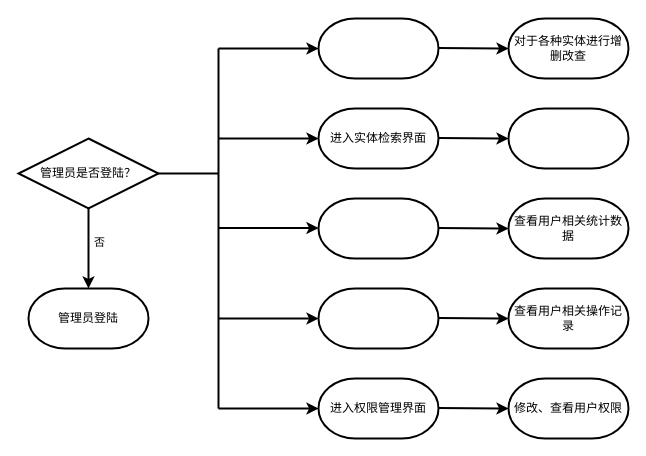
The diagram is 646 pixels wide and 456 high, and some of its shapes have lost their labels. Each missing label, with the centre of its shape:
使用各种关键信息（关键词、时间）等对实体进行检索: (568,138)
进入实体管理界面: (378,48)
进入数据统计界面: (378,228)
进入日志查看界面: (378,318)
